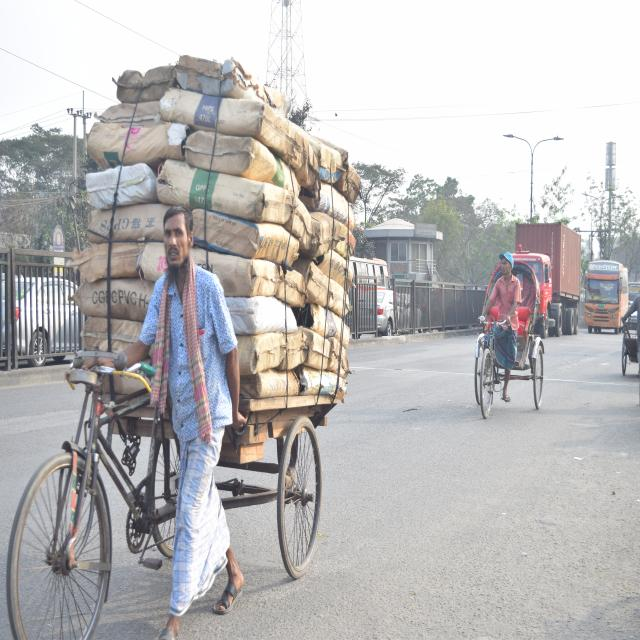bus: (581, 253, 629, 332)
truck: (513, 218, 580, 338)
